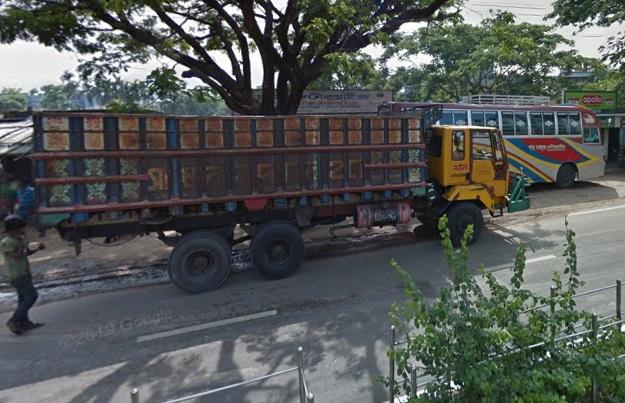bus: (378, 94, 608, 186)
truck: (30, 103, 530, 295)
